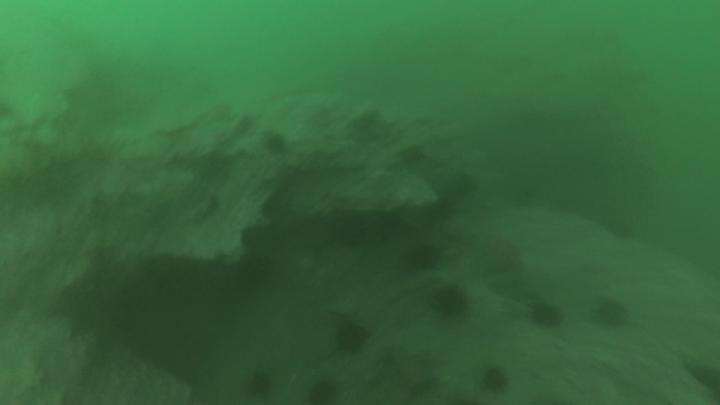holothurian: (375, 351, 441, 403)
starfish: (591, 292, 632, 333), (331, 211, 371, 253), (433, 281, 472, 319), (335, 322, 375, 358), (528, 298, 565, 334), (408, 241, 445, 274), (479, 366, 512, 400), (303, 378, 338, 405), (247, 371, 272, 405), (260, 129, 288, 157), (454, 171, 481, 198)
